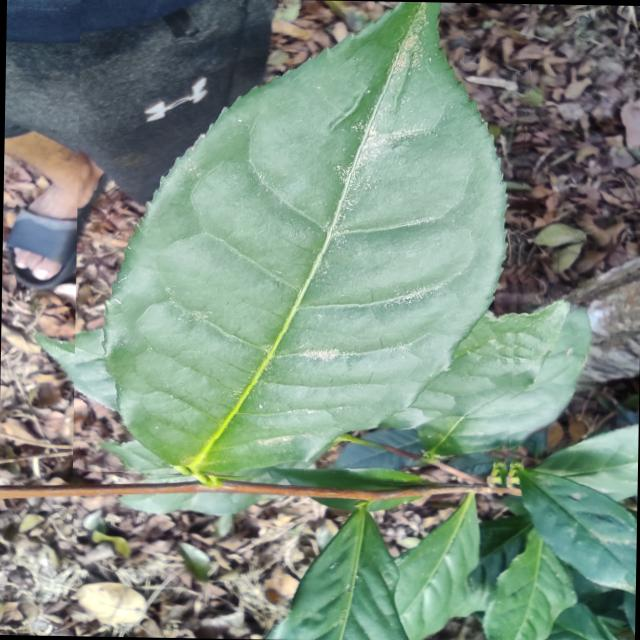Category D(7+ days, Not for Tea): (71, 0, 531, 487)
